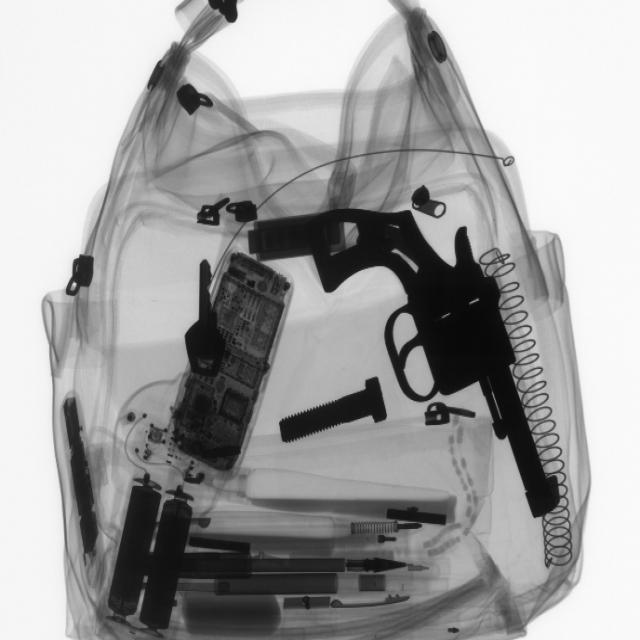GUN: (289, 211, 571, 508)
